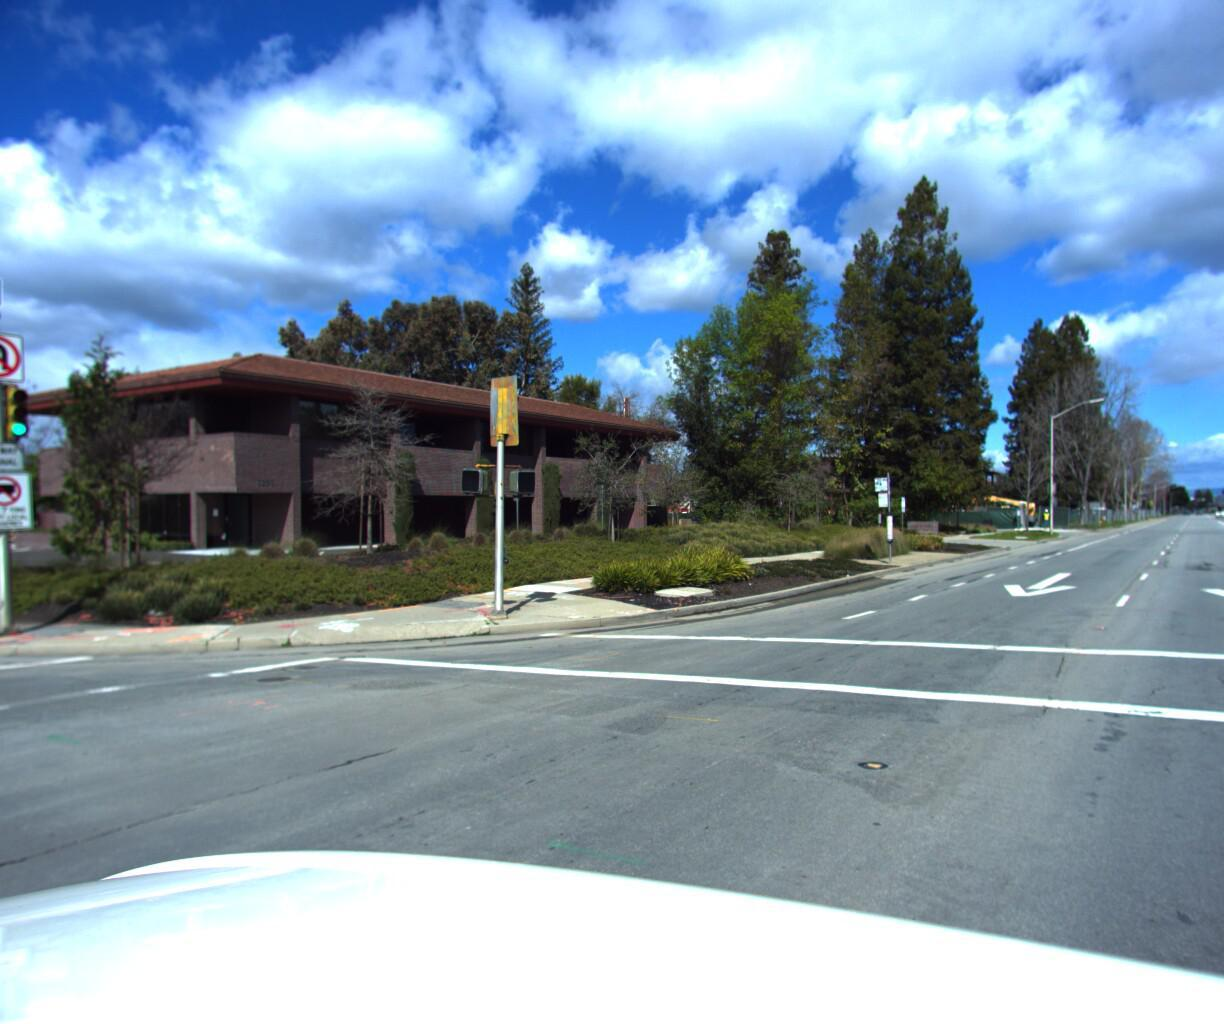other_vehicle: (951, 496, 1046, 528)
